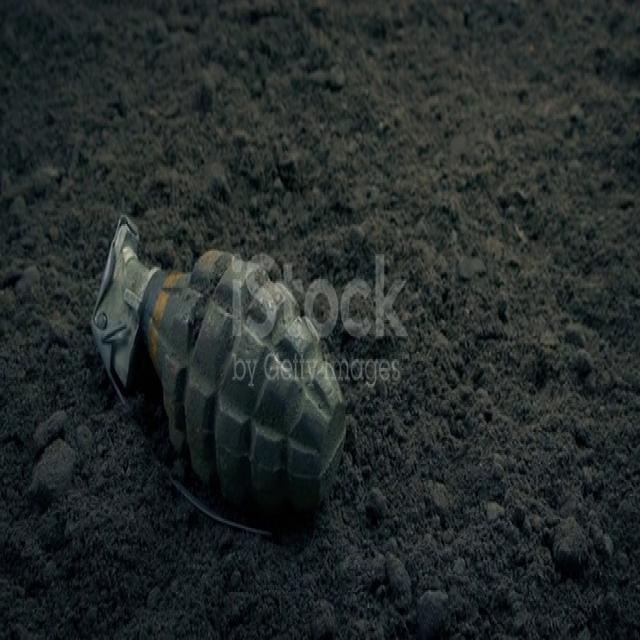grenade: (96, 200, 350, 524)
